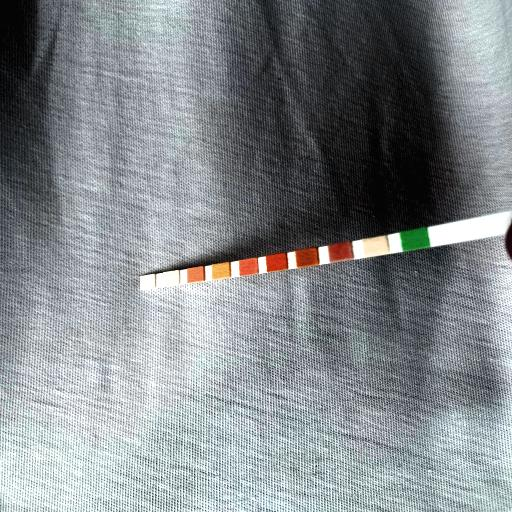Bilirubin: (366, 239, 386, 254)
Blood: (268, 256, 286, 268)
Glucose: (403, 232, 426, 248)
Ketone: (330, 244, 350, 260)
Leukocytes: (140, 276, 154, 288)
Nitrite: (164, 272, 178, 284)
Protein: (212, 265, 228, 277)
SpGravity: (297, 251, 316, 265)
Urobilinogen: (187, 268, 203, 280)
pH: (240, 260, 256, 274)
strip: (139, 213, 503, 290)
